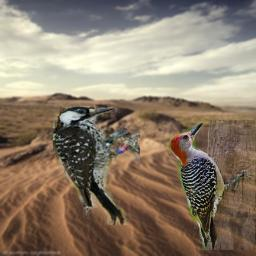Woodpecker: (164, 120, 255, 250), (53, 106, 140, 225)
